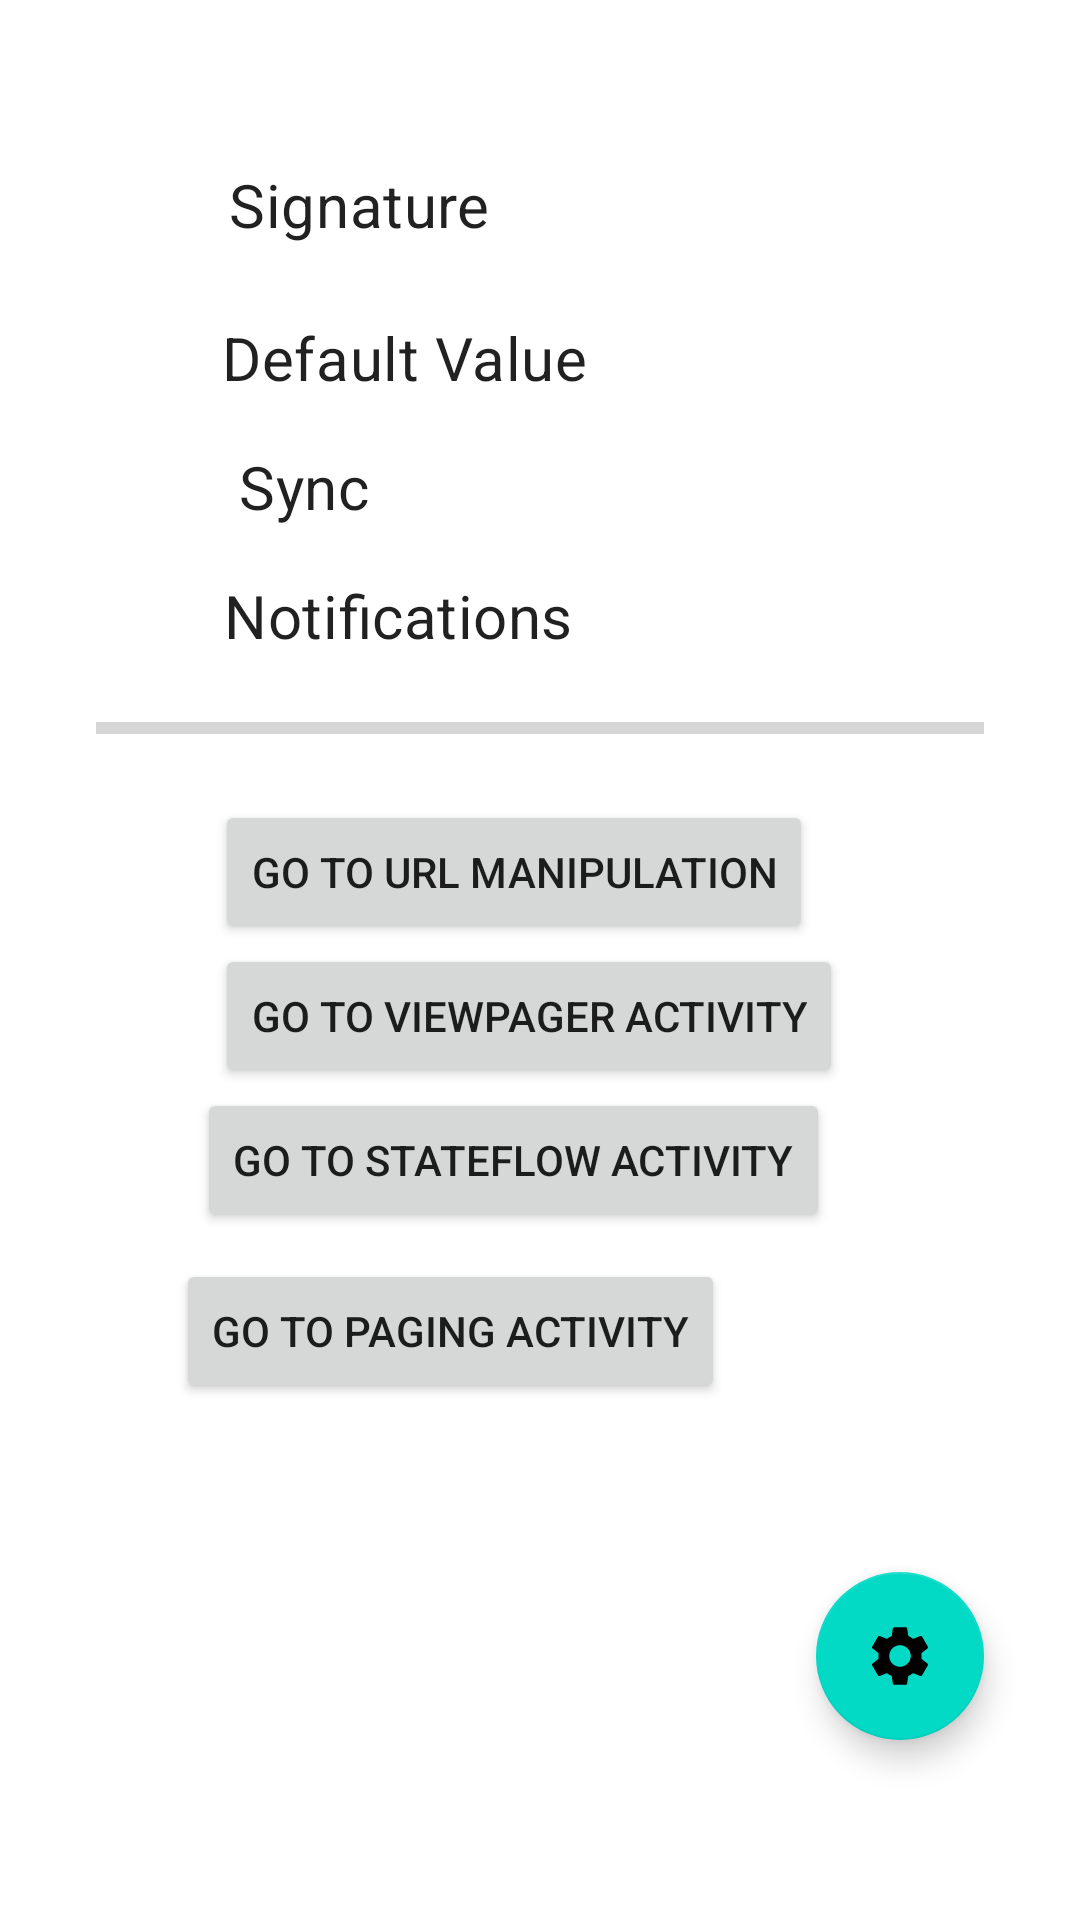

Screen size 1080 × 1920. Icon name, then its center in pixels as [x,y]:
settings: [900,1656]
